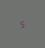five: (19, 19, 23, 28)
